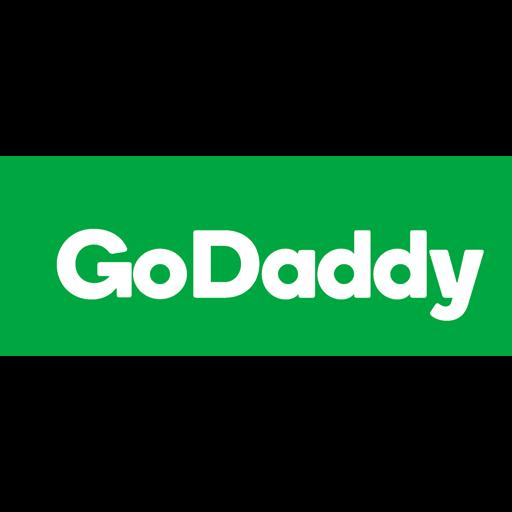GoDaddy: (0, 156, 512, 356)
